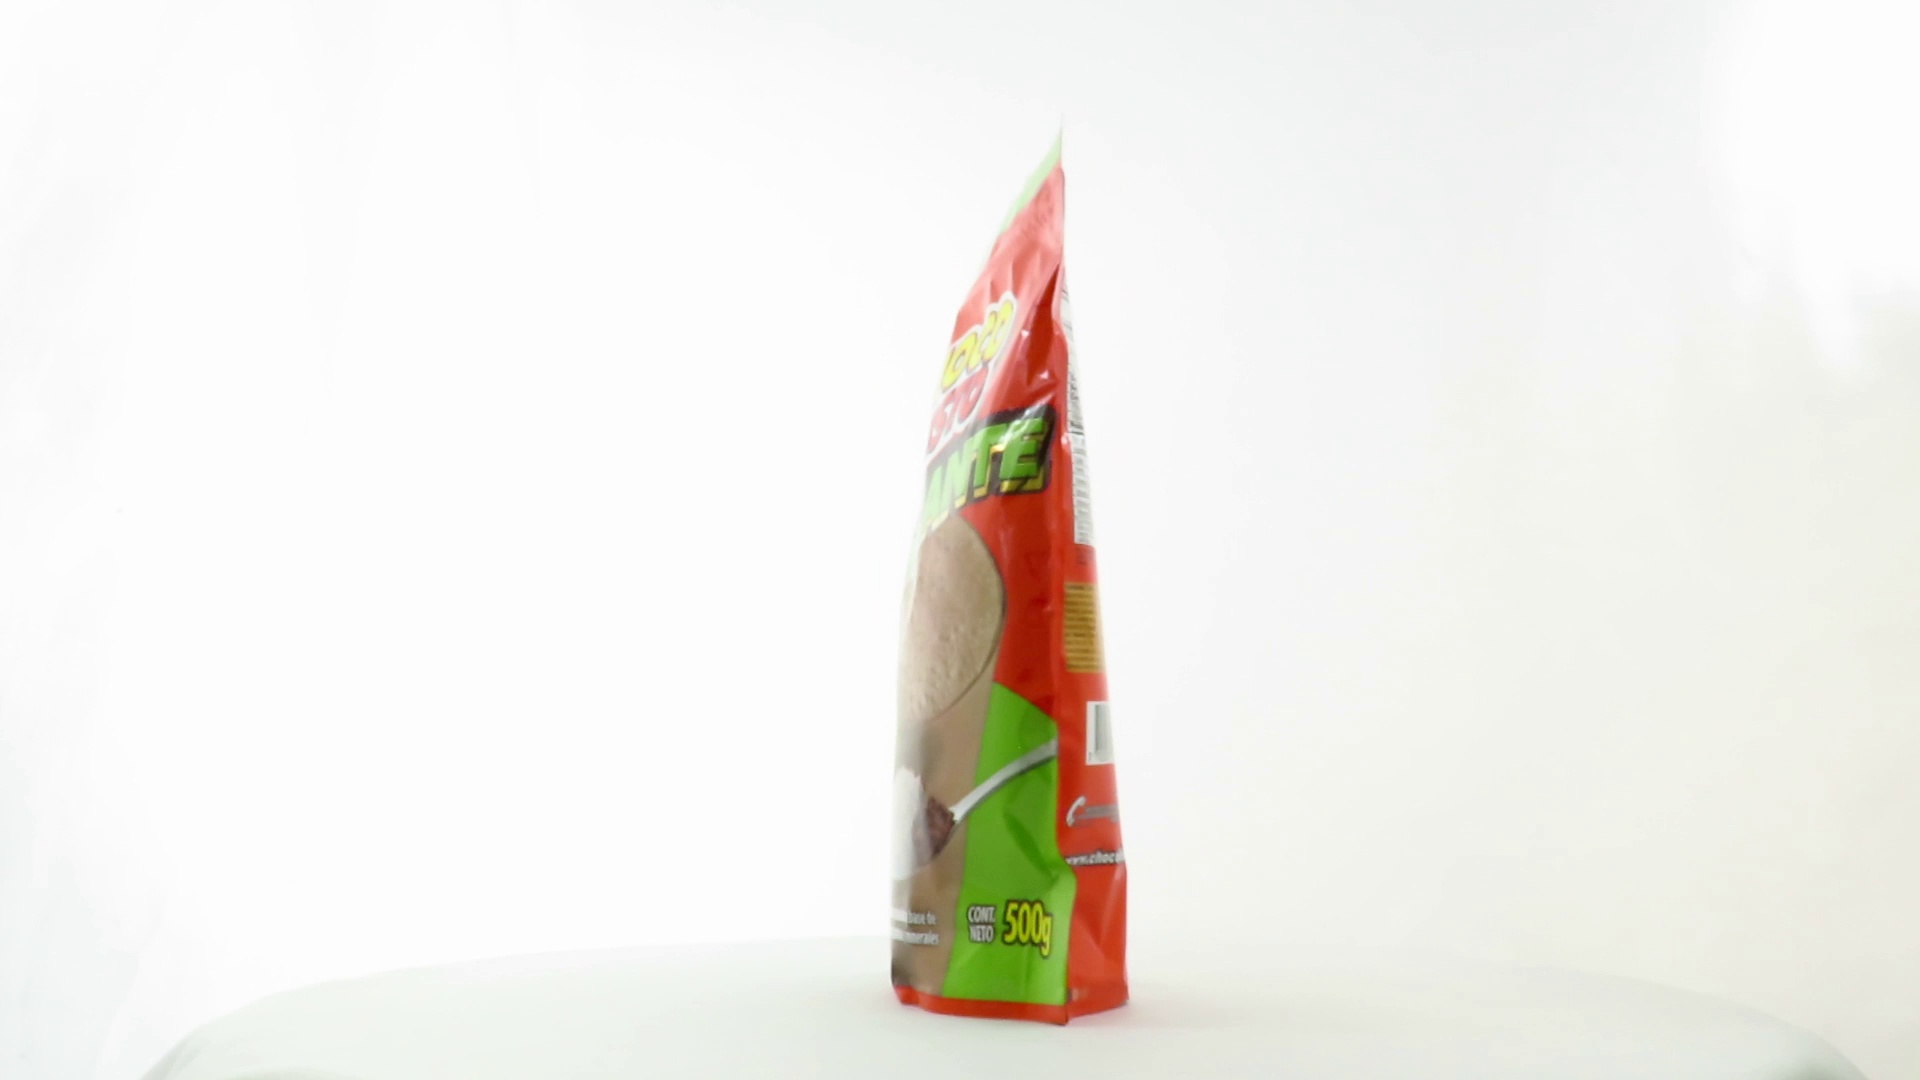COL0170102DYP50000: (886, 113, 1135, 1033)
